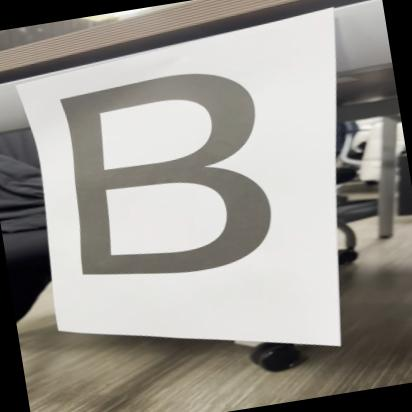seat: (36, 50, 300, 309)
